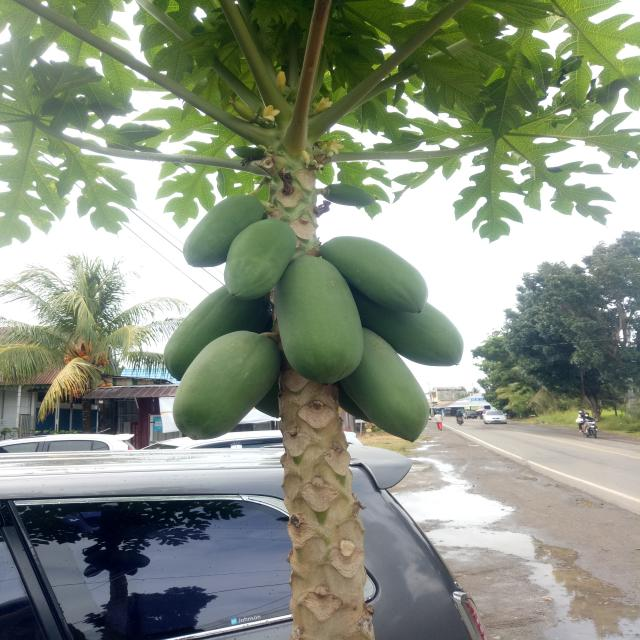Pepaya unrippen: (270, 258, 366, 386), (176, 332, 282, 440), (333, 236, 432, 312), (363, 347, 432, 447), (380, 308, 464, 364), (228, 219, 291, 293), (186, 200, 256, 263)
